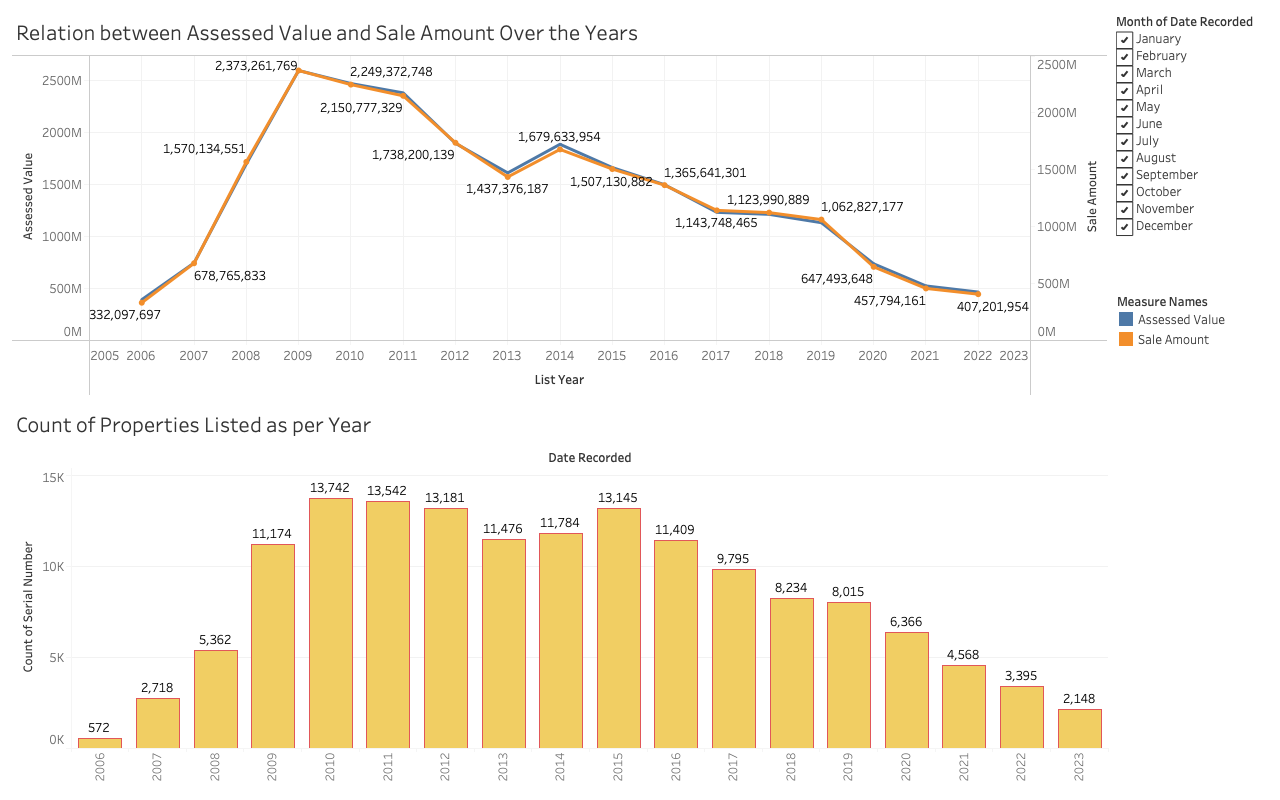

Layout of this report page (visuals, bound fields, positions):
{"tool":"tableau","page":{"name":"Analysis Based on Count of Listed Properties and Assessed Value and Sale Amount","canvas":[1280,800],"ordinal":0},"visuals":[{"type":"worksheet","title":"Relation between Assessed Value and Sale Amount Over the Years","mark":"Automatic","rows":["Assessed Value","Sale Amount"],"cols":["List Year"],"box":[8,8,1104,392]},{"type":"filter","title":"Relation between Assessed Value and Sale Amount Over the Years","param":"[federated.0g8ji680tp70971ecopgq0450o81].[mn:Date Recorded:ok]","box":[1112,8,160,279]},{"type":"legend","title":"Relation between Assessed Value and Sale Amount Over the Years","param":"[federated.0g8ji680tp70971ecopgq0450o81].[:Measure Names]","box":[1112,287,160,66]},{"type":"worksheet","title":"Count of Properties Listed as per Year","mark":"Bar","rows":["Serial Number"],"cols":["Date Recorded"],"box":[8,400,1104,392]}]}

Visuals, with their boxes on the page's 1280x800 design canvas (x1, y1, x2, y2). These are canvas units, not pixel positions in the 1280x800 screenshot, which may show the page scaled, cropped or inside an application window:
"Relation between Assessed Value and Sale Amount Over the Years" worksheet: <box>8,8,1112,400</box>
"Relation between Assessed Value and Sale Amount Over the Years" filter: <box>1112,8,1272,287</box>
"Relation between Assessed Value and Sale Amount Over the Years" legend: <box>1112,287,1272,353</box>
"Count of Properties Listed as per Year" worksheet (Bar marks): <box>8,400,1112,792</box>
